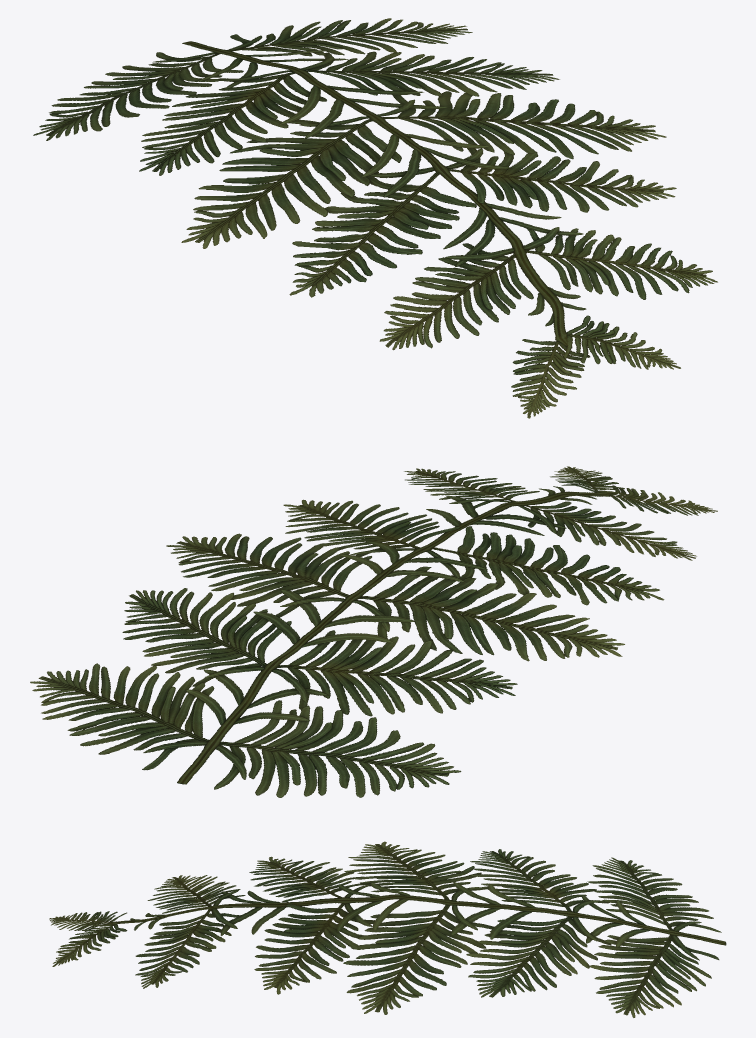
Rendered from RedwoodLeavesGeo.FBX.
3 renders of one model, top to bottom at view 1: azimuth 30°, elevation 25°; view 2: azimuth 150°, elevation 25°; view 3: azimuth 270°, elevation 25°, orthographic. The views are drawn at different scales.
Visible parts, largest first — view 1: Plane001; view 2: Plane001; view 3: Plane001.
Boxes of the visible parts, x1,y1,x2,y2 form: Plane001: (33, 18, 717, 418); Plane001: (30, 466, 717, 797); Plane001: (49, 841, 726, 1017).
Bounding box in the file's own units: 67.09 × 11.38 × 114.
Materials: 1 (1 with a texture image).
